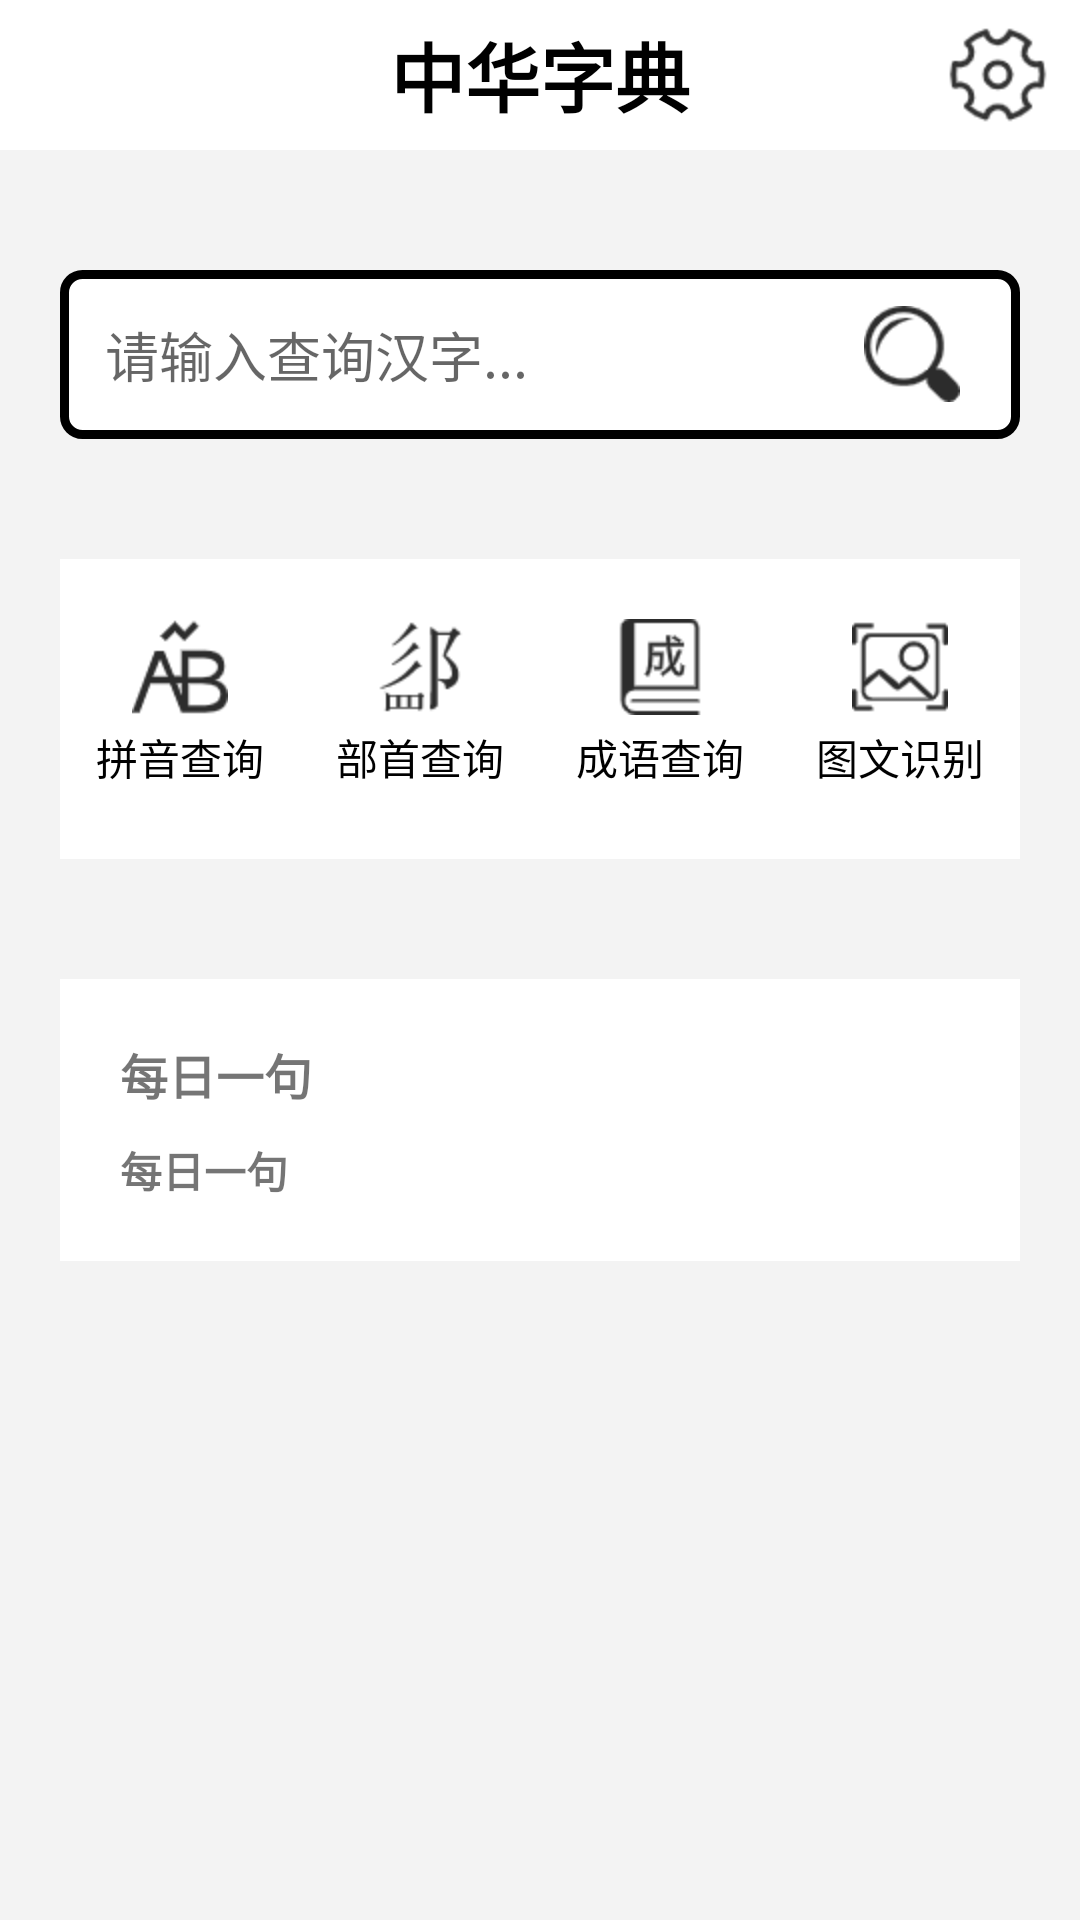

Where to tap for icons on this 1080x1920 app screen, as [x,y]:
search: [912,354]
setting: [997,74]
